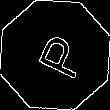P_NW: (24, 27, 86, 83)
